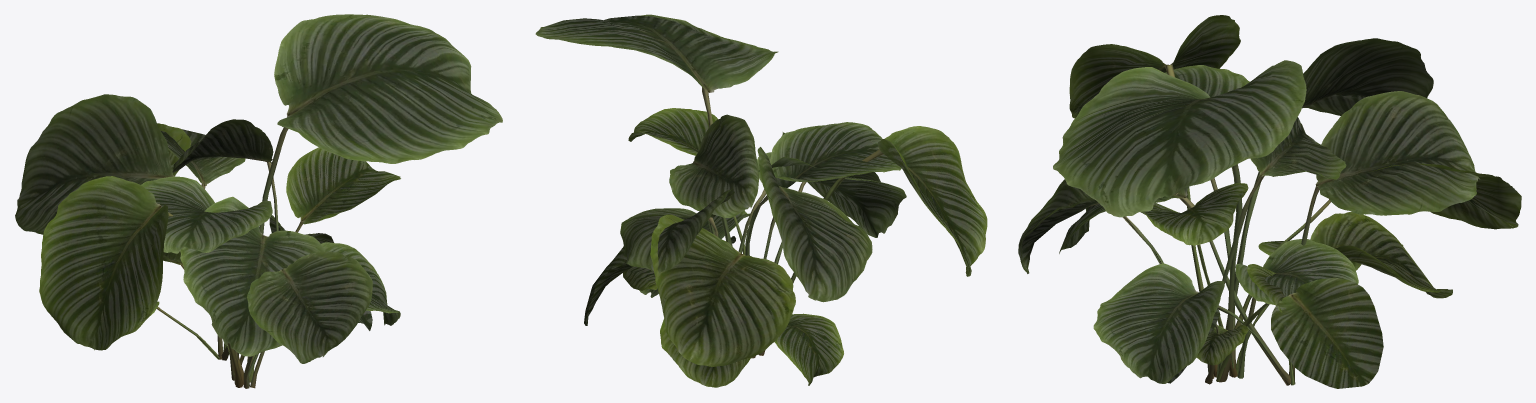
File: calathea_orbifolia_01.glb
3 renders of one model, left to right at view 1: azimuth 30°, elevation 25°; view 2: azimuth 150°, elevation 25°; view 3: azimuth 270°, elevation 25°, orthographic. The views are drawn at different scales.
Parts seen in each view (by area): view 1: a, b, c; view 2: a, b, c; view 3: a, b, c.
Part boxes in pixels (x1=…): a: x1=15, y1=14, x2=502, y2=388; b: x1=94, y1=129, x2=400, y2=360; c: x1=141, y1=147, x2=400, y2=380; a: x1=535, y1=14, x2=987, y2=366; b: x1=620, y1=152, x2=906, y2=385; c: x1=628, y1=108, x2=901, y2=387; a: x1=1018, y1=15, x2=1521, y2=388; b: x1=1059, y1=91, x2=1479, y2=385; c: x1=1140, y1=65, x2=1452, y2=378.
Size of the model in its own units: 0.6006 by 0.4243 by 0.5252.
1 material, 1 textured.
